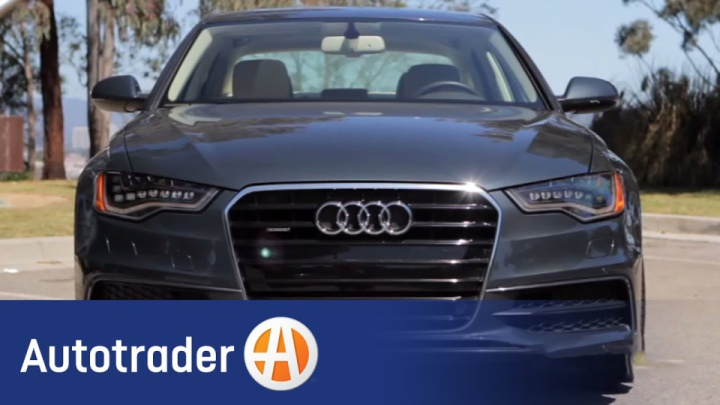audi: (308, 197, 416, 247)
